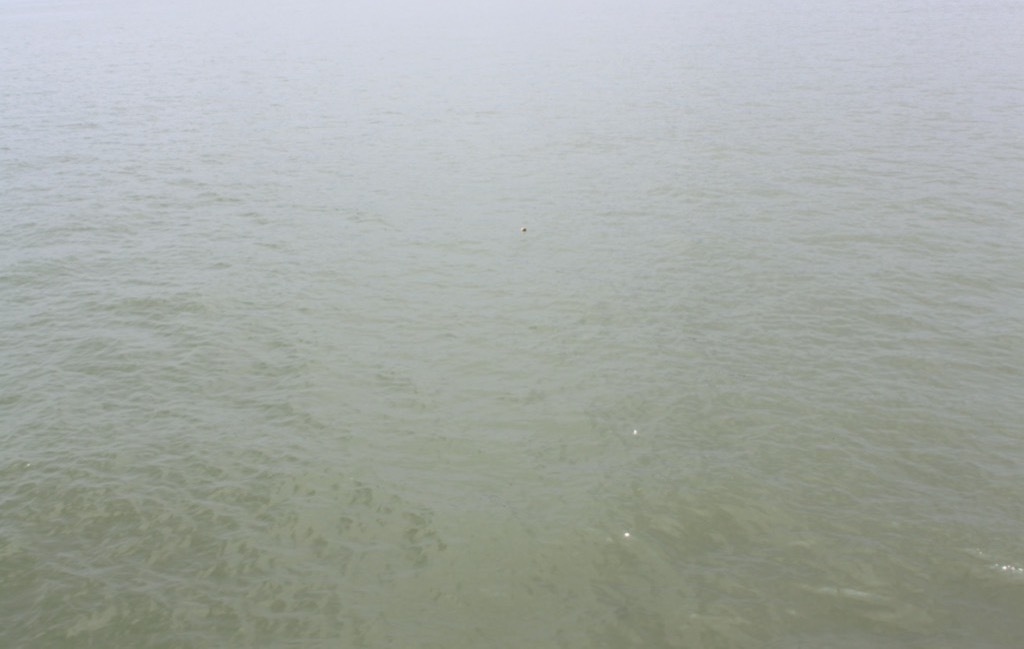plastic: (510, 214, 540, 246), (622, 414, 645, 446)
